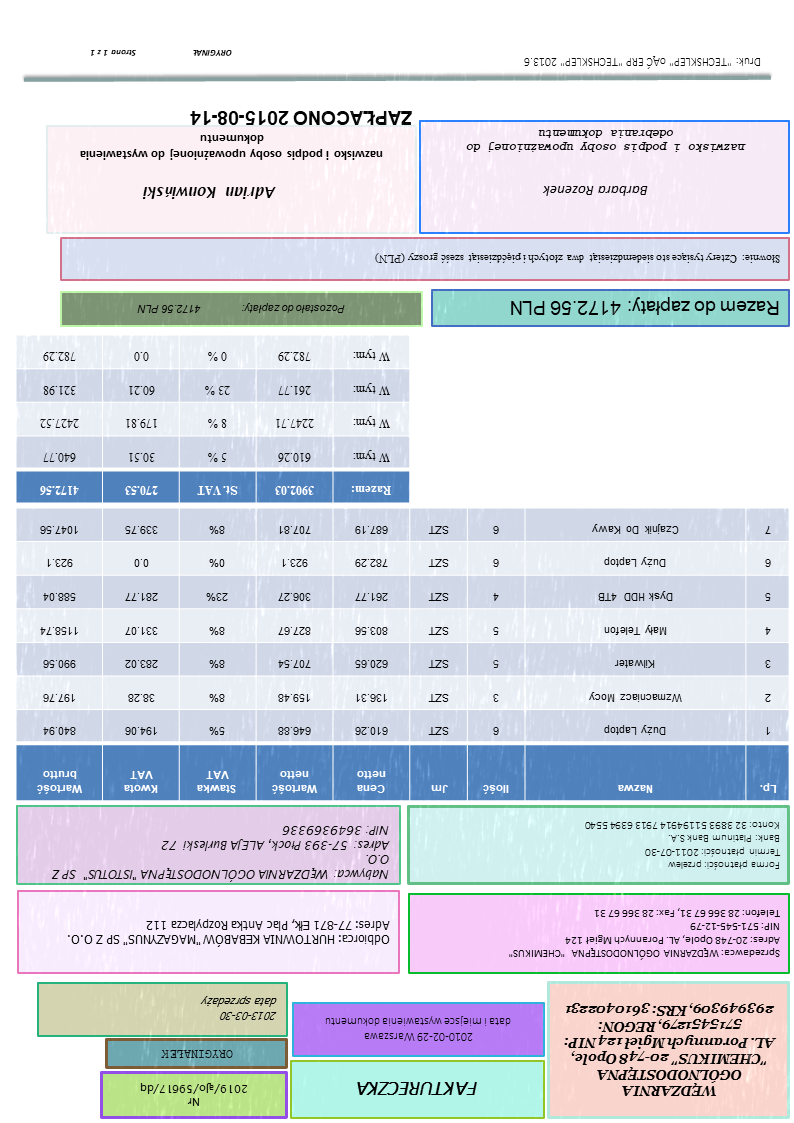Table: (14, 505, 792, 802), (14, 333, 412, 505)
TextBox: (560, 999, 779, 1099), (49, 822, 393, 885), (505, 904, 784, 962), (65, 915, 393, 950), (585, 819, 782, 874), (74, 133, 386, 165), (463, 126, 747, 159), (373, 249, 783, 268), (508, 295, 781, 321), (323, 1013, 515, 1047), (190, 107, 416, 131), (519, 54, 765, 73), (136, 299, 349, 318), (137, 1080, 250, 1110), (198, 992, 280, 1027), (355, 1079, 481, 1101), (141, 183, 279, 202), (87, 46, 234, 62), (538, 182, 652, 200), (158, 1047, 237, 1064)
